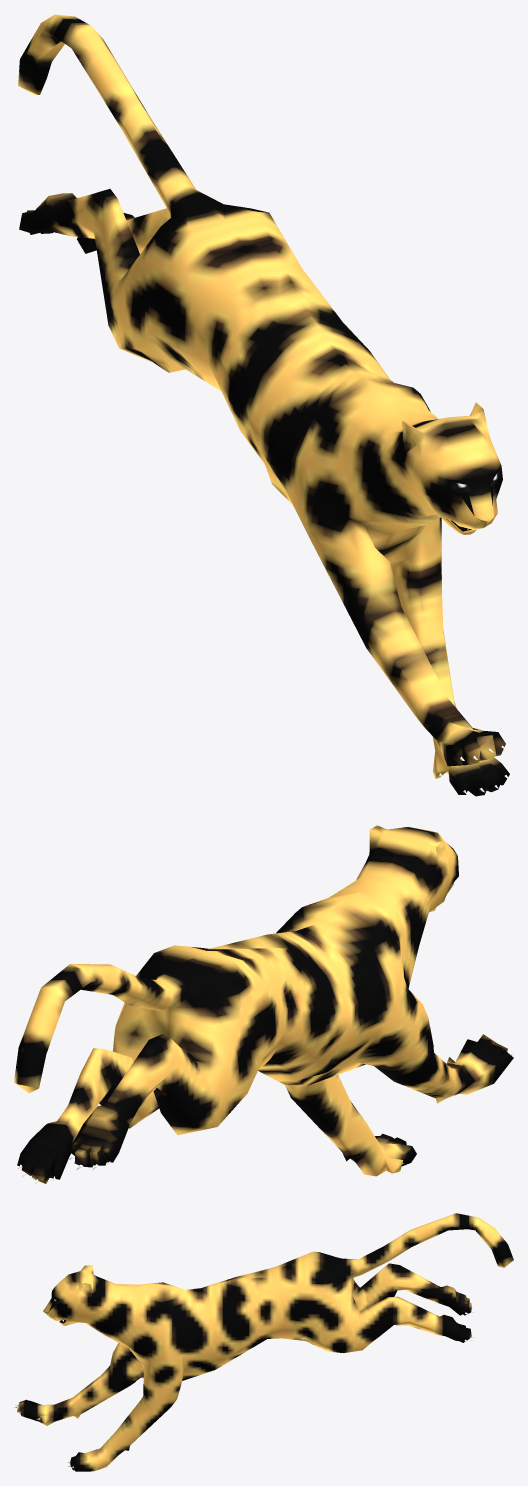
Rendered from feba1c27-73e3-4d34-97db-40d78355aded.glb.
The picture shows the model from 3 angles, top to bottom: view 1: azimuth 30°, elevation 25°; view 2: azimuth 150°, elevation 25°; view 3: azimuth 270°, elevation 25°; orthographic projection. The views are drawn at different scales.
Parts seen in each view (by area): view 1: Cheetah01; view 2: Cheetah01; view 3: Cheetah01.
Boxes of the visible parts, box(x1,y1,x2,y2) form: Cheetah01: box(18, 14, 509, 796); Cheetah01: box(14, 825, 513, 1183); Cheetah01: box(14, 1213, 513, 1471).
Size of what is drawn, in the model's own units: 0.3904 by 1.28 by 2.34.
Materials: 1 (1 with a texture image).
